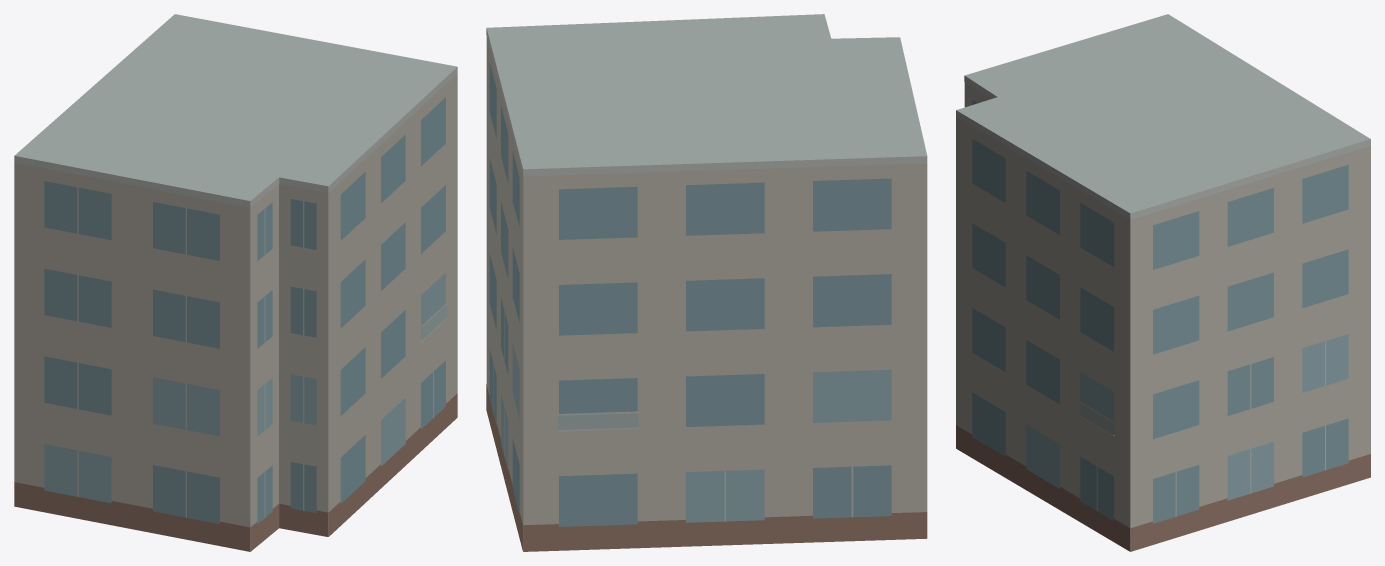
The model's file is survey-upis-32828961.glb.
3 renders of one model, left to right at view 1: azimuth 30°, elevation 25°; view 2: azimuth 150°, elevation 25°; view 3: azimuth 270°, elevation 25°, orthographic. The views are drawn at different scales.
Parts seen in each view (by area): view 1: survey-upis-32828961.tmp; view 2: survey-upis-32828961.tmp; view 3: survey-upis-32828961.tmp.
Part boxes in pixels (box(x1,y1,x2,y2)): survey-upis-32828961.tmp: box(14, 14, 457, 551); survey-upis-32828961.tmp: box(486, 14, 927, 551); survey-upis-32828961.tmp: box(956, 14, 1370, 551).
Bounding box in the file's own units: 16.19 × 12.8 × 14.23.
